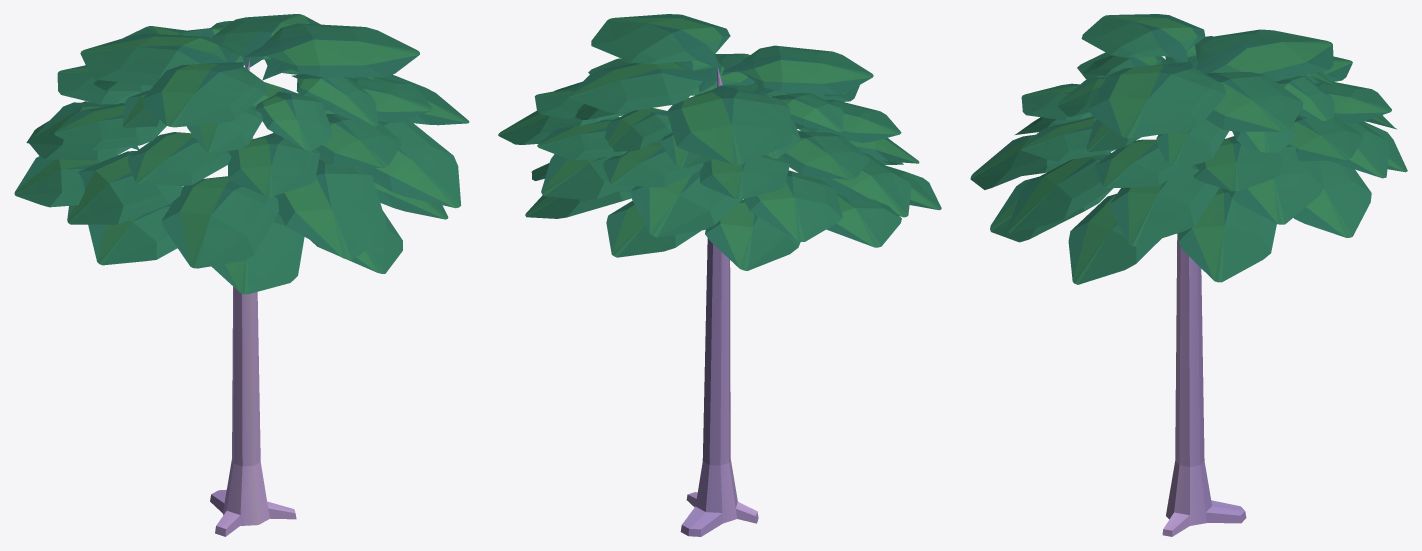
File: Garden_HousePlant13.fbx
The picture shows the model from 3 angles, left to right: view 1: azimuth 30°, elevation 25°; view 2: azimuth 150°, elevation 25°; view 3: azimuth 270°, elevation 25°; orthographic projection. The views are drawn at different scales.
Visible parts, largest first — view 1: Cylinder.223; view 2: Cylinder.223; view 3: Cylinder.223.
Part boxes in pixels (box(x1,y1,x2,y2)): Cylinder.223: box(14, 14, 469, 536); Cylinder.223: box(498, 14, 941, 536); Cylinder.223: box(970, 14, 1407, 536).
Bounding box in the file's own units: 105 × 121 × 102.
